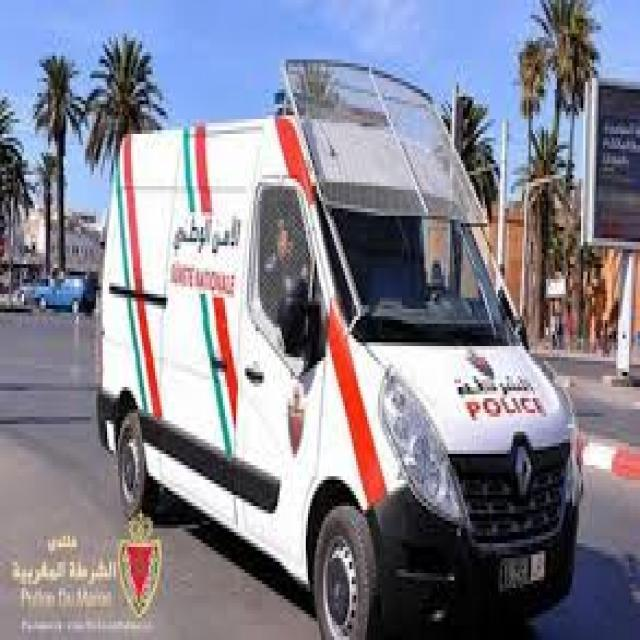police: (94, 85, 587, 640)
